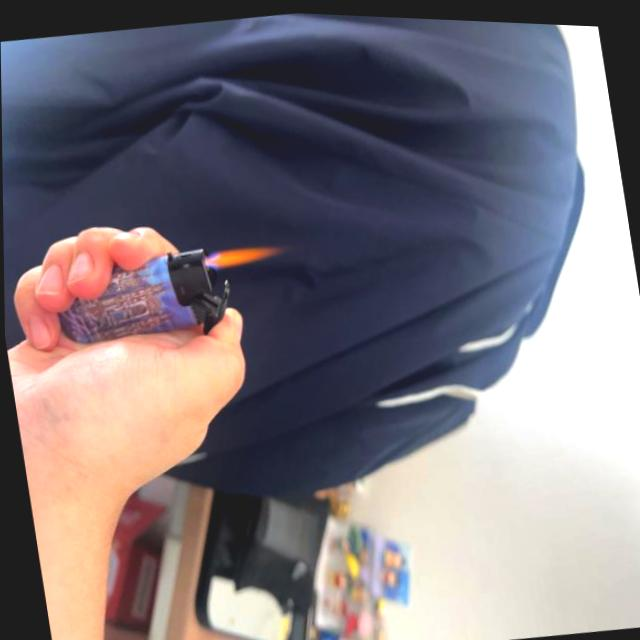Fire: (202, 236, 277, 275)
